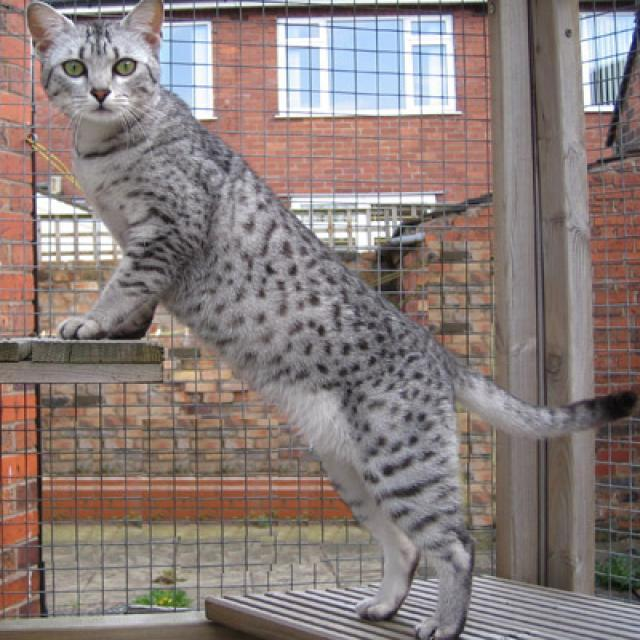Egyptian_Mau: (26, 0, 162, 122)
